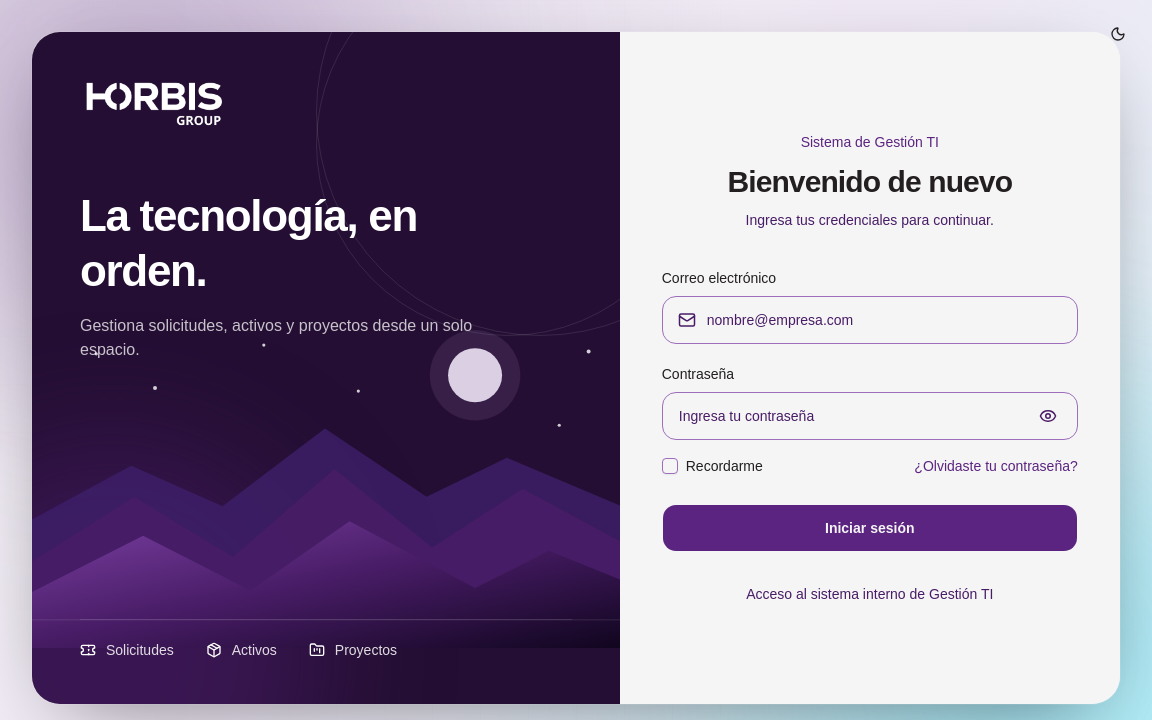
Test: LoginPage › muestra un mensaje de error con credenciales invalidas
Type "admin@gestion-ti.local" into the field labelled "Correo electrónico".
click(870, 320); type("admin@gestion-ti.local")  # box [662,296,1078,344]
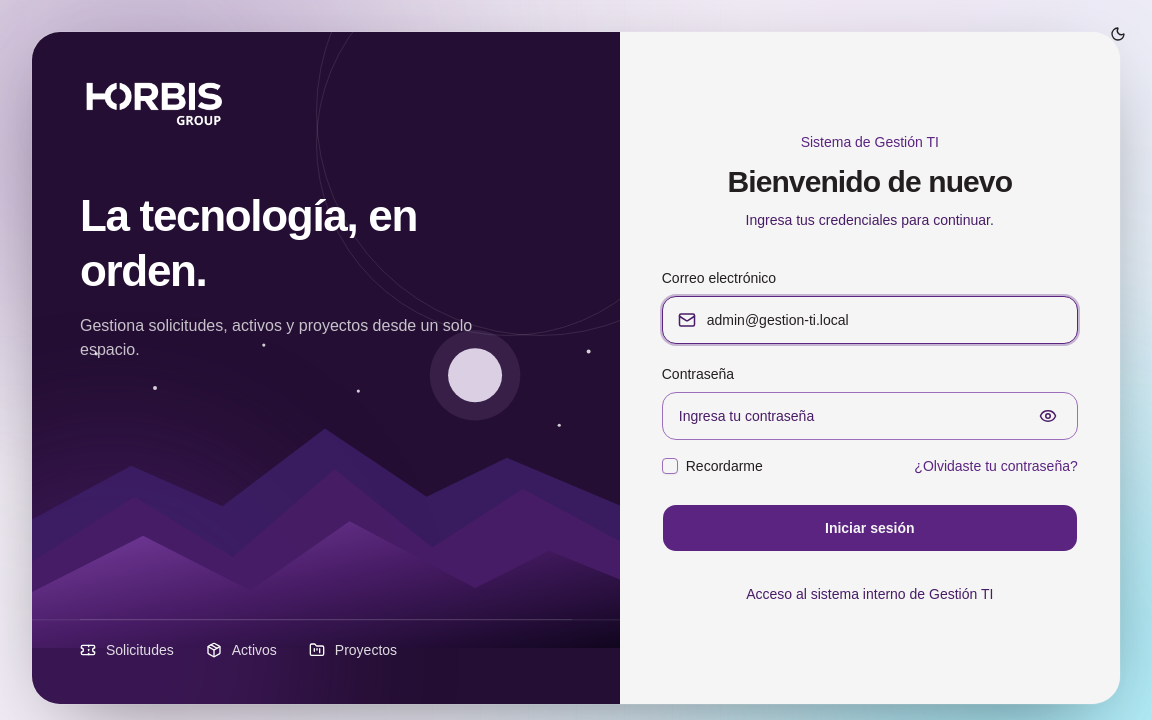
Type "incorrecta" into the password field labelled "Contraseña".
click(870, 416); type("incorrecta")  # box [662,392,1078,440]
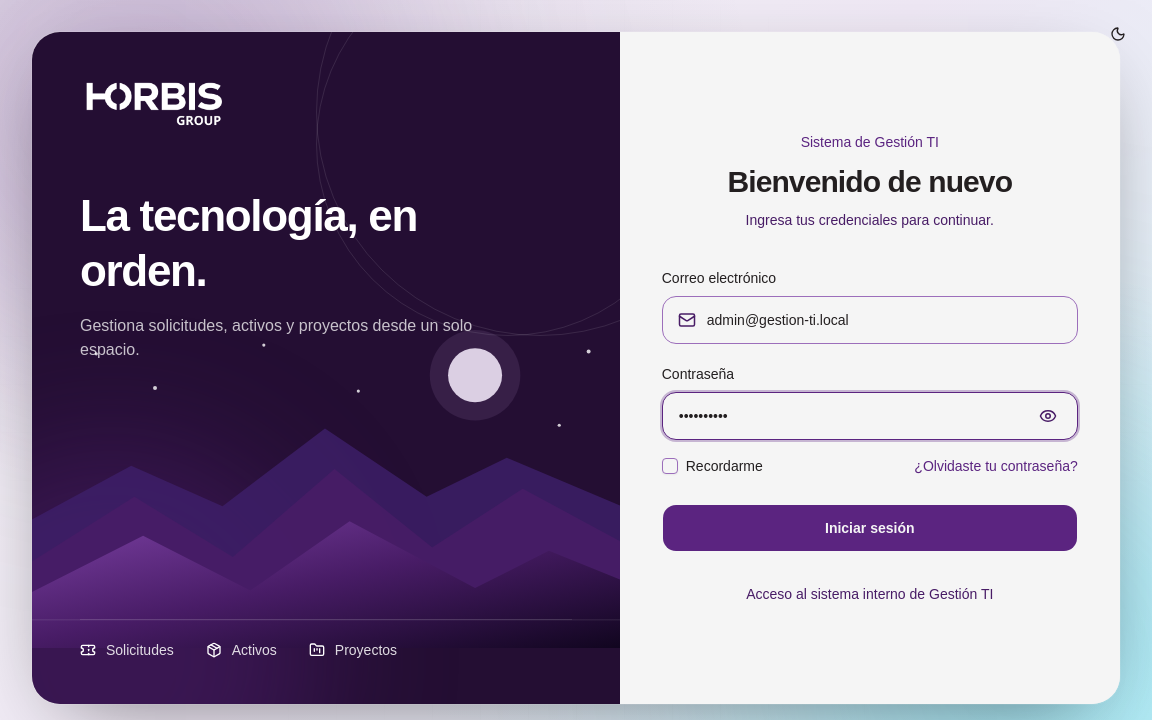
Click the button "Iniciar sesión".
click(870, 528)  # box [662,504,1078,552]
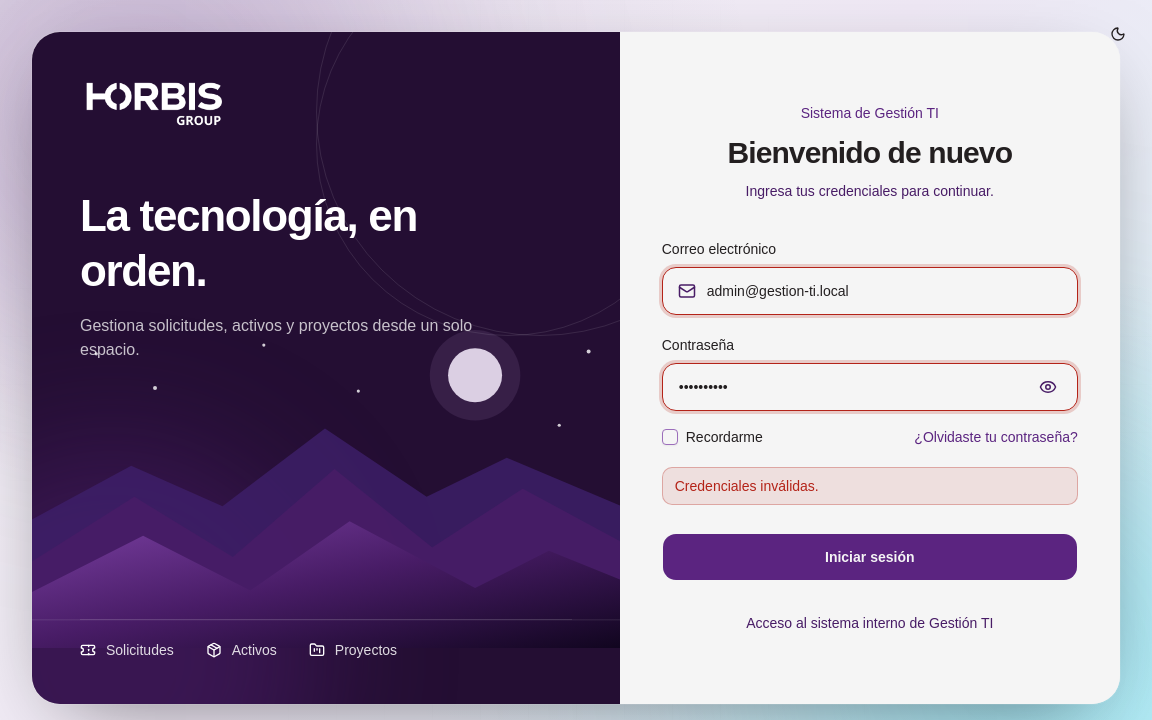
Expected: the message reads "Credenciales inválidas.", [675,478,819,494]
